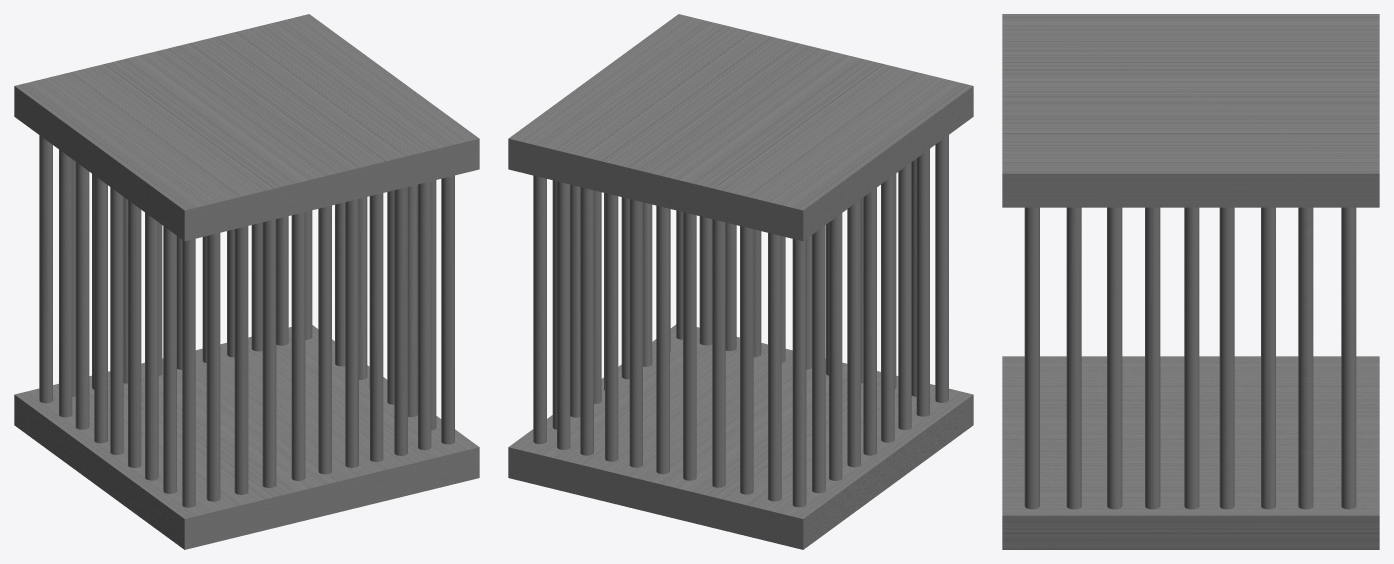
File: cage.fbx
The picture shows the model from 3 angles, left to right: view 1: azimuth 30°, elevation 25°; view 2: azimuth 150°, elevation 25°; view 3: azimuth 270°, elevation 25°; orthographic projection. The views are drawn at different scales.
Parts seen in each view (by area): view 1: cagedRat1:pCube3; view 2: cagedRat1:pCube3; view 3: cagedRat1:pCube3.
Boxes of the visible parts, x1,y1,x2,y2 form: cagedRat1:pCube3: [14, 14, 479, 549]; cagedRat1:pCube3: [508, 14, 973, 549]; cagedRat1:pCube3: [1002, 14, 1379, 549].
Bounding box in the file's own units: 50 × 55 × 50.
